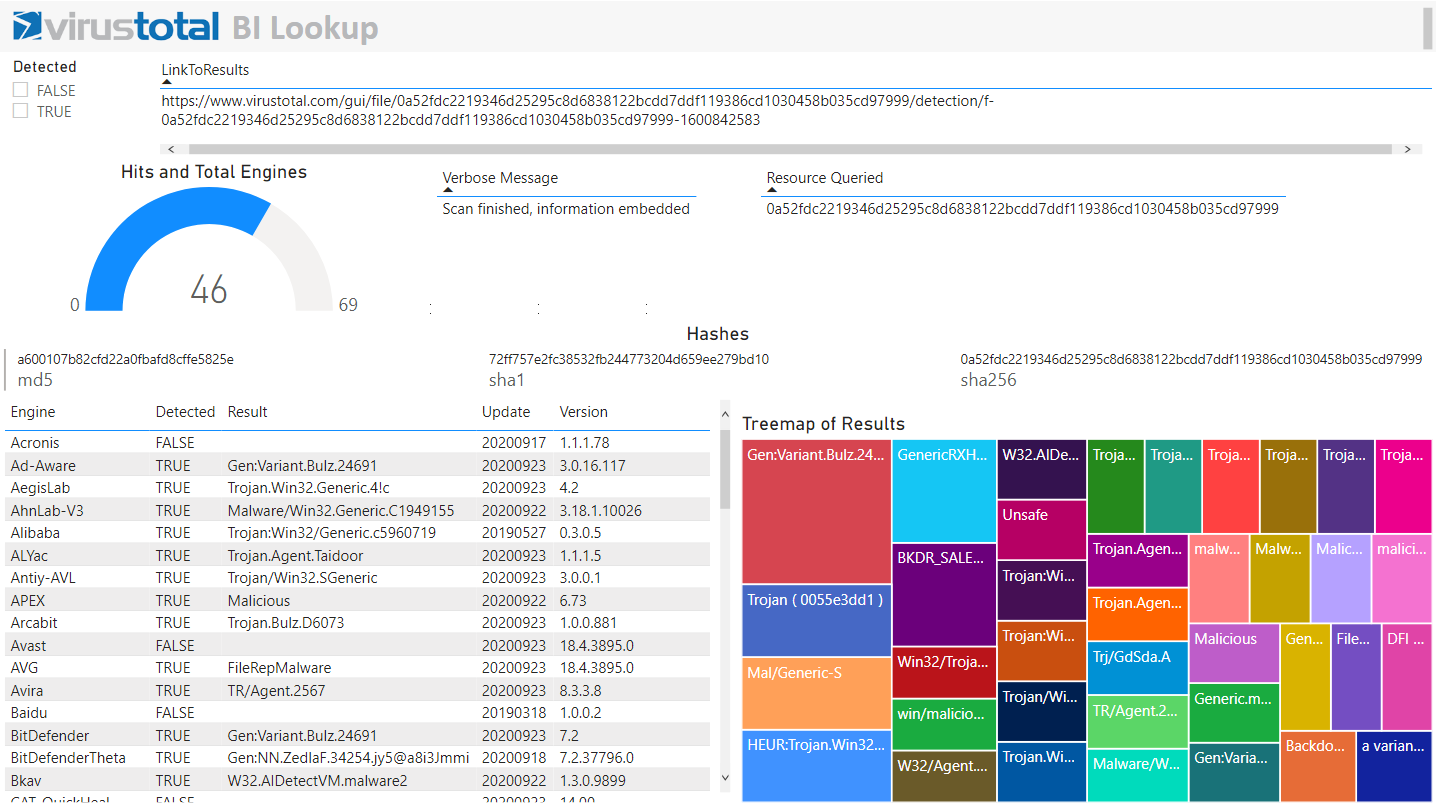

The dashboard page shown, as its layout file describes it:
{"tool":"powerbi","page":{"name":"VirusTotal","canvas":[1280,720],"ordinal":0},"visuals":[{"type":"textbox","box":[0,3,1280,48],"z":0},{"type":"multiRowCard","title":"Hashes","fields":{"Values":["VirusTotal.md5","VirusTotal.sha1","VirusTotal.sha256"]},"box":[0,288,1280,80],"z":1000},{"type":"tableEx","title":"Link to results","fields":{"Values":["VirusTotal.permalink"]},"box":[136,48,1144,96],"z":2000},{"type":"gauge","title":"Hits and Total Engines","fields":{"MaxValue":["Max(VirusTotal.total)"],"Y":["Min(VirusTotal.positives)"]},"box":[0,144,384,144],"z":3000},{"type":"tableEx","fields":{"Values":["VirusTotal.verbose_msg"]},"box":[384,144,288,128],"z":4000},{"type":"tableEx","fields":{"Values":["VirusTotal.resource"]},"box":[672,144,608,144],"z":5000},{"type":"tableEx","fields":{"Values":["VirusTotal.Engine","VirusTotal.Detected","VirusTotal.Result","VirusTotal.Updated","VirusTotal.Version"]},"box":[0,368,656,352],"z":6000},{"type":"slicer","fields":{"Values":["VirusTotal.Detected"]},"box":[0,48,144,96],"z":7000},{"type":"treemap","title":"Treemap of Results","fields":{"Group":["VirusTotal.Result"],"Values":["CountNonNull(VirusTotal.Result)"]},"box":[656,368,624,352],"z":8000},{"type":"image","box":[0,0,208,48],"z":9000}]}

Visuals, with their boxes in screenshot pixels (x1, y1, x2, y2), scaled from the page's 1280x720 canvas onto the 1436x805 screenshot:
textbox: region(0, 3, 1435, 57)
"Hashes" multiRowCard: region(0, 322, 1435, 411)
"Link to results" tableEx: region(153, 54, 1435, 161)
"Hits and Total Engines" gauge: region(0, 161, 431, 322)
tableEx - VirusTotal.verbose_msg: region(431, 161, 754, 304)
tableEx - VirusTotal.resource: region(754, 161, 1435, 322)
tableEx - VirusTotal.Engine x VirusTotal.Detected: region(0, 411, 736, 804)
slicer - VirusTotal.Detected: region(0, 54, 162, 161)
"Treemap of Results" treemap: region(736, 411, 1435, 804)
image: region(0, 0, 233, 54)
